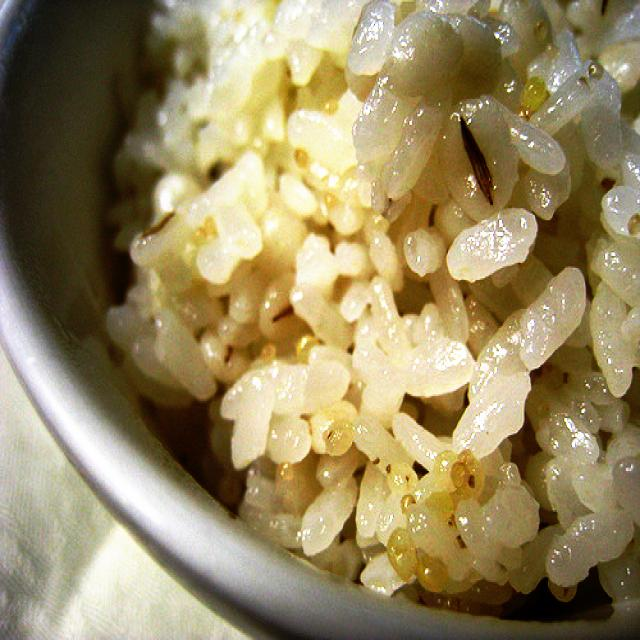rice: (105, 0, 640, 602)
